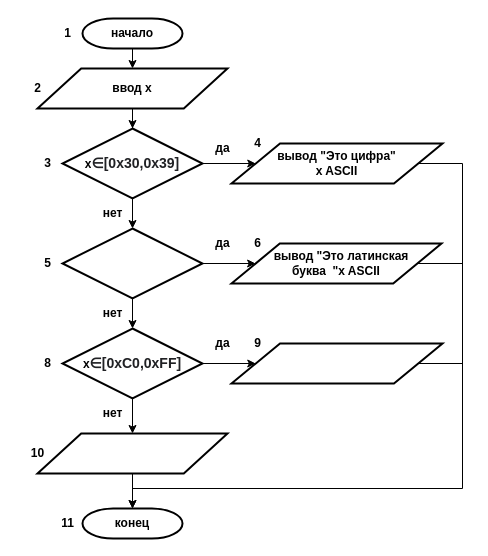
This 488x556 diagram has some shape labels left out. Each missing label, with the box of its shape:
x ∈[0x49,0x7A]: (61, 227, 203, 299)
вывод "'это не буква и не цифра": (36, 432, 228, 474)
вывод "Это русская буква"x Windows-1251: (230, 342, 443, 384)
